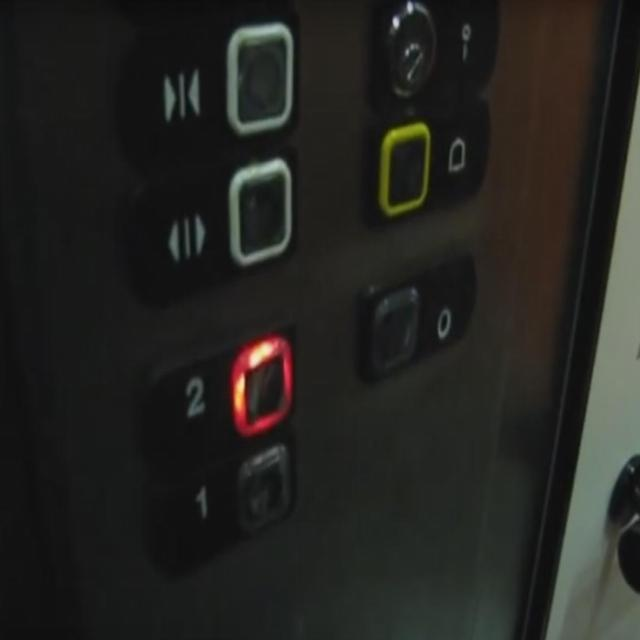0: (354, 252, 477, 381)
1: (137, 429, 304, 561)
2: (136, 327, 304, 466)
alarm: (355, 101, 490, 235)
close: (113, 5, 300, 150)
open: (119, 146, 300, 298)
unknown: (362, 0, 503, 100)
